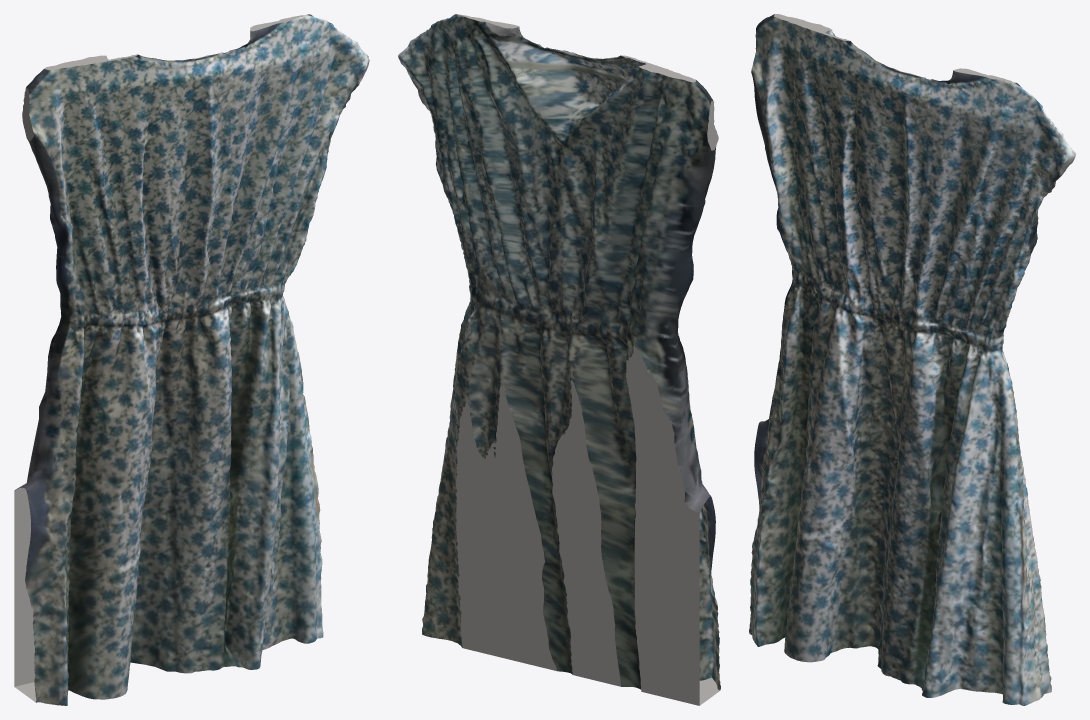
The model's file is white_dress.glb.
The picture shows the model from 3 angles, left to right: view 1: azimuth 30°, elevation 25°; view 2: azimuth 150°, elevation 25°; view 3: azimuth 330°, elevation 25°; orthographic projection. The views are drawn at different scales.
Visible parts, largest first — view 1: 3DModel; view 2: 3DModel; view 3: 3DModel.
Part boxes in pixels (bbox=[...]): 3DModel: bbox=[14, 14, 369, 705]; 3DModel: bbox=[398, 14, 720, 705]; 3DModel: bbox=[749, 14, 1075, 705].
Size of the model in its own units: 0.409 by 0.736 by 0.0922.
Materials: 1 (1 with a texture image).
